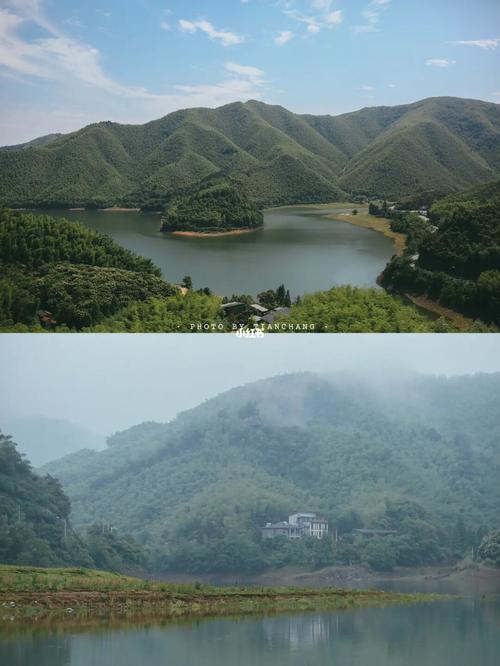mountain: (46, 370, 461, 570), (6, 91, 500, 217)
